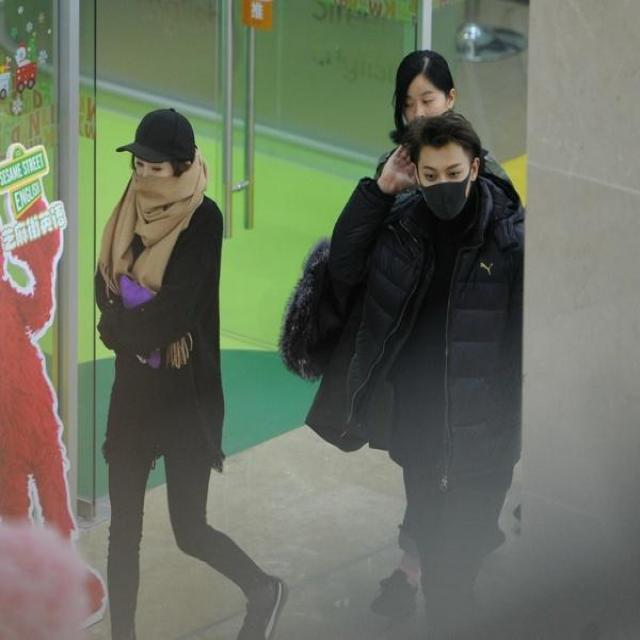mask: (420, 145, 470, 218), (134, 148, 173, 205)
nomask: (401, 77, 446, 132)
